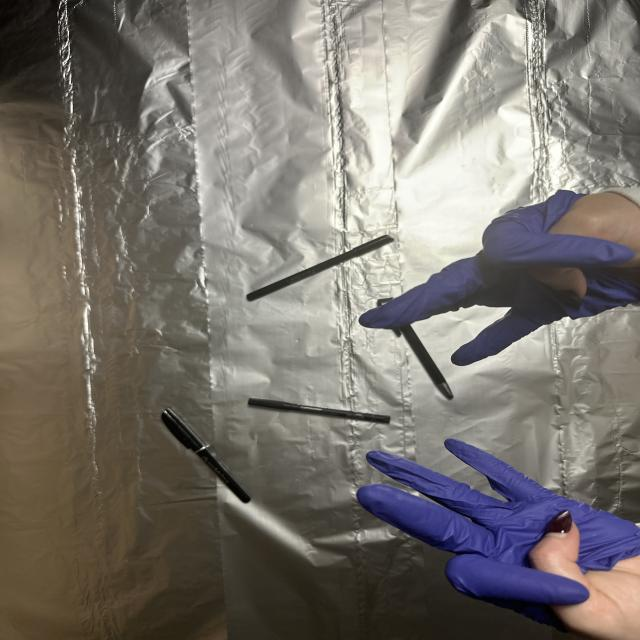glove_partial: (357, 431, 640, 640), (348, 186, 640, 367)
